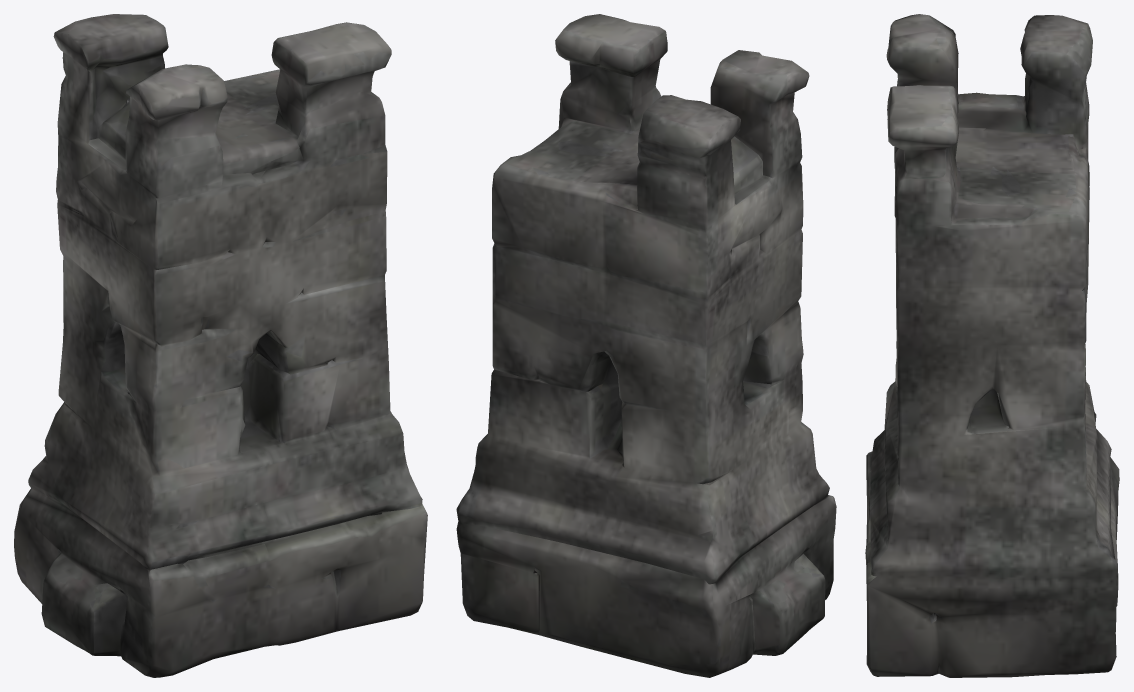
Rendered from simple-granite-battlement-wall-v002.glb.
3 views of the same model, side by side, from view 1: azimuth 30°, elevation 25°; view 2: azimuth 150°, elevation 25°; view 3: azimuth 270°, elevation 25° (orthographic). The views are drawn at different scales.
Parts seen in each view (by area): view 1: simple-granite-battlement-wall; view 2: simple-granite-battlement-wall; view 3: simple-granite-battlement-wall.
Boxes of the visible parts, <box> form: simple-granite-battlement-wall: <box>14,14,427,677</box>; simple-granite-battlement-wall: <box>456,14,836,677</box>; simple-granite-battlement-wall: <box>865,14,1119,677</box>.
Size of the model in its own units: 1.23 by 2.21 by 0.928.
Materials: 1 (1 with a texture image).
